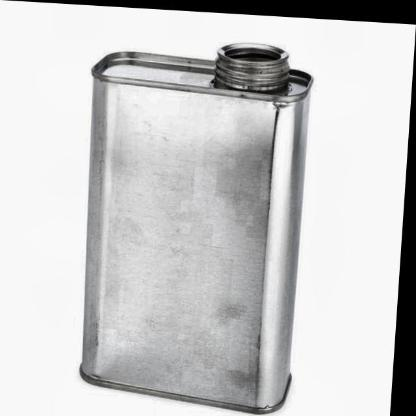Can: (72, 26, 320, 416)
